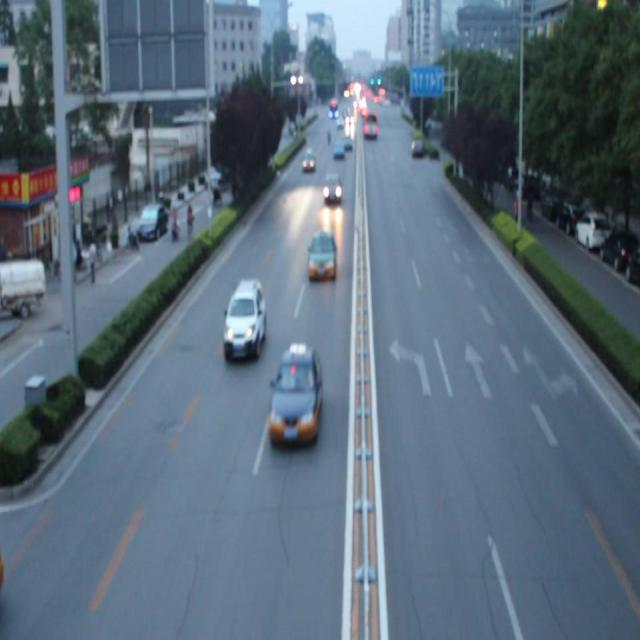car: (268, 345, 320, 444), (222, 277, 266, 357), (305, 228, 337, 280), (323, 171, 342, 205)
